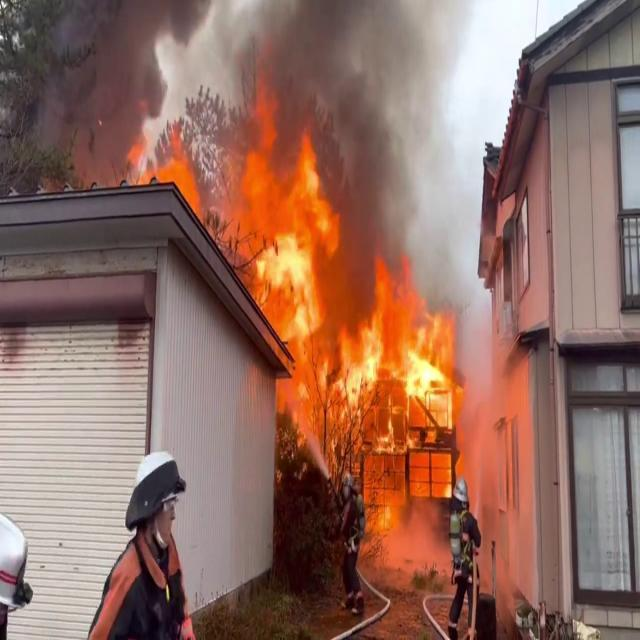Fire: (241, 130, 481, 504)
Smoke: (234, 0, 428, 278), (7, 0, 210, 192)
